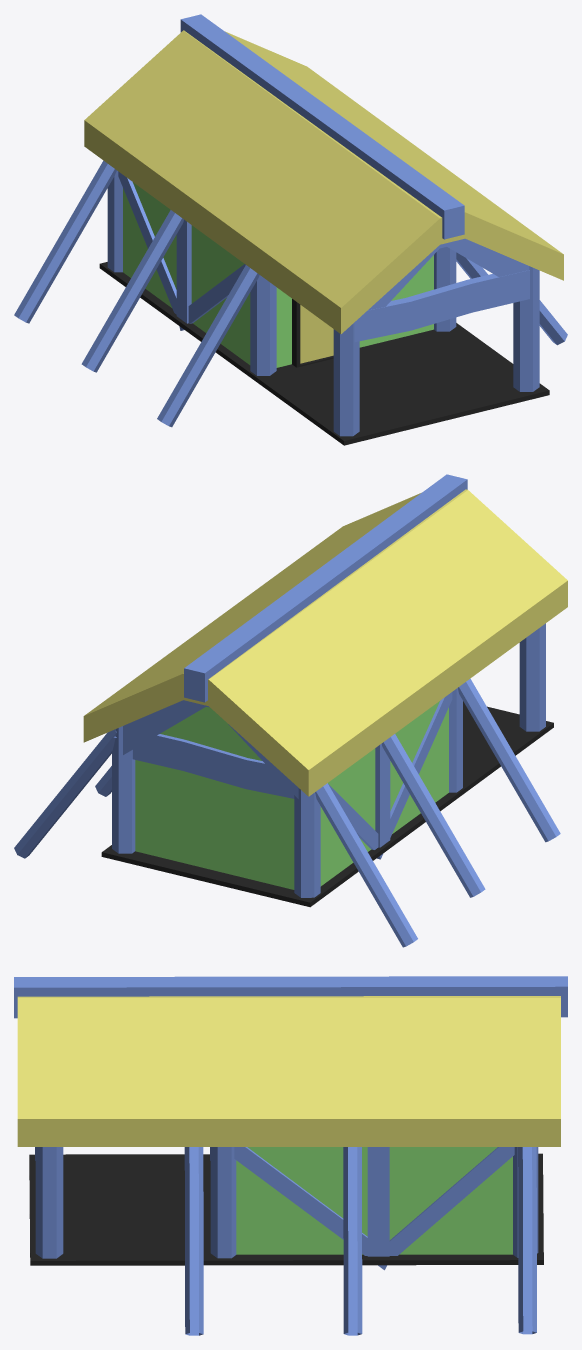
File: barracks_1 1.fbx
3 views of the same model, one above another, from view 1: azimuth 30°, elevation 25°; view 2: azimuth 150°, elevation 25°; view 3: azimuth 270°, elevation 25° (orthographic). The views are drawn at different scales.
Visible parts, largest first — view 1: Barracks_1; view 2: Barracks_1; view 3: Barracks_1.
Boxes of the visible parts, x1,y1,x2,y2 form: Barracks_1: (14,14,567,445); Barracks_1: (14,474,567,947); Barracks_1: (14,976,567,1335).
Size of the model in its own units: 10.85 by 6.38 by 12.45.
